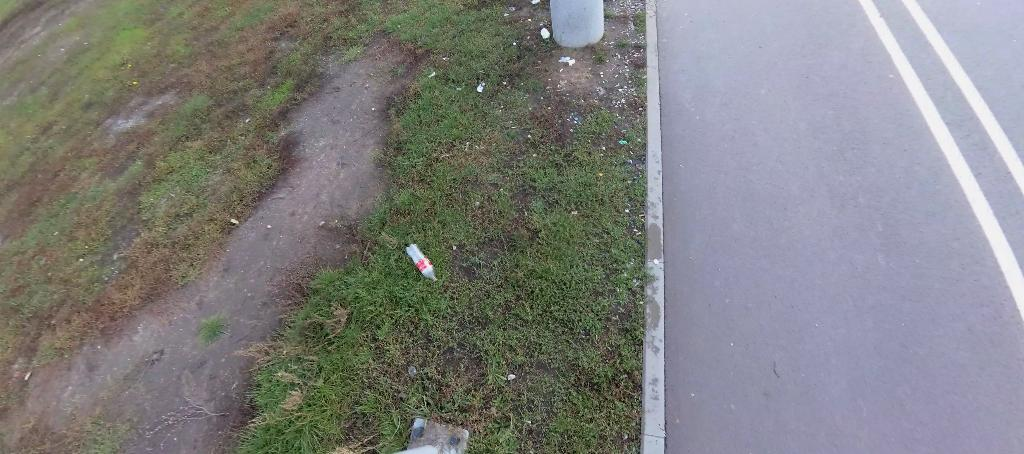garbage: (406, 242, 438, 285), (540, 25, 552, 42)
